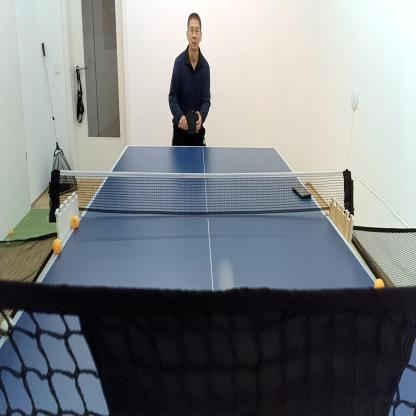Ball: (216, 257, 235, 292), (0, 313, 15, 340), (51, 236, 63, 256), (372, 275, 386, 292), (69, 213, 81, 231), (8, 227, 14, 237), (5, 237, 11, 247)
